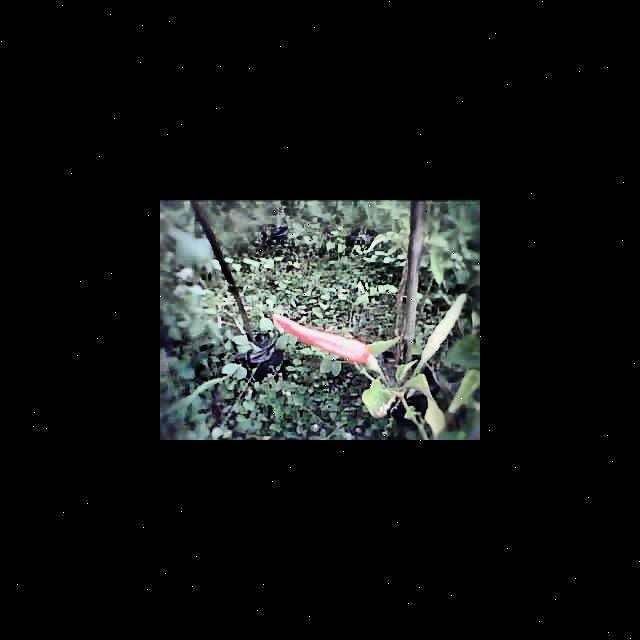Cabai: (275, 312, 387, 373)
